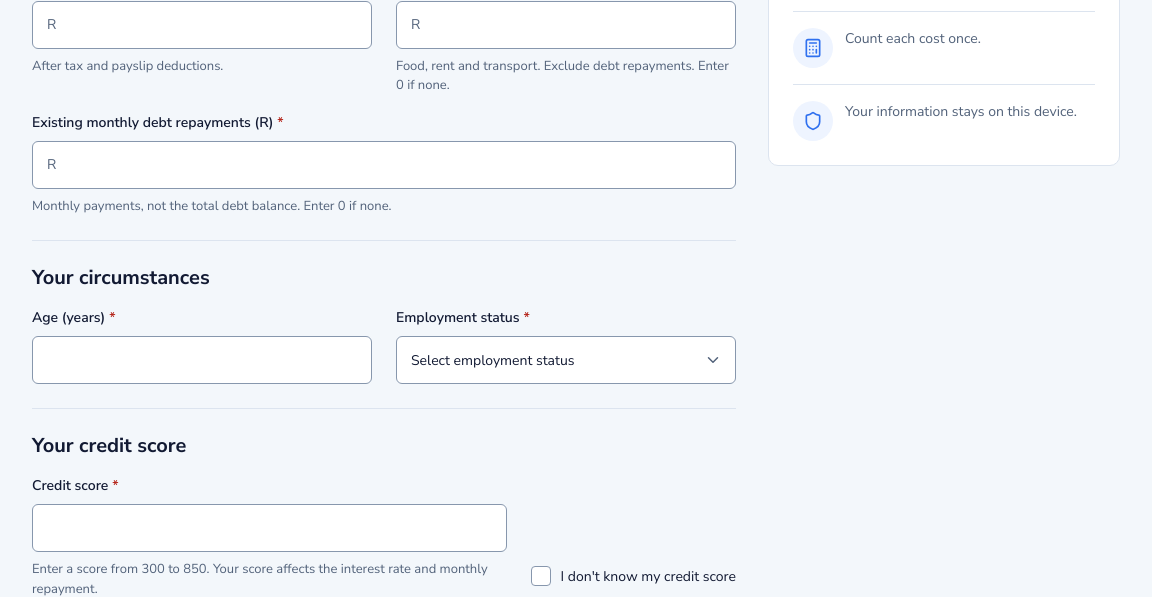
YourBudgetScreen › shows employment duration for employed and income source for unemployed
(page scrolled)
Select "Employed" in the dropdown labelled "Employment status *" at (566, 360), box [396,336,736,384]
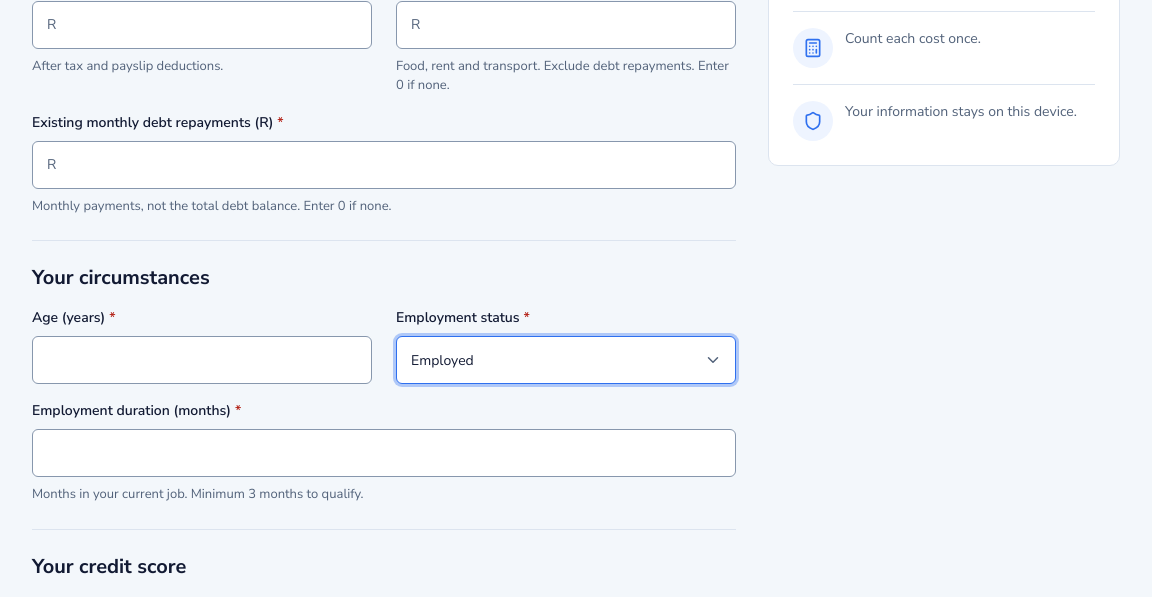
Expected: the field labelled "Employment duration (months) *" is shown, [32,429,736,477]
Select "Unemployed" in the dropdown labelled "Employment status *" at (566, 360), box [396,336,736,384]
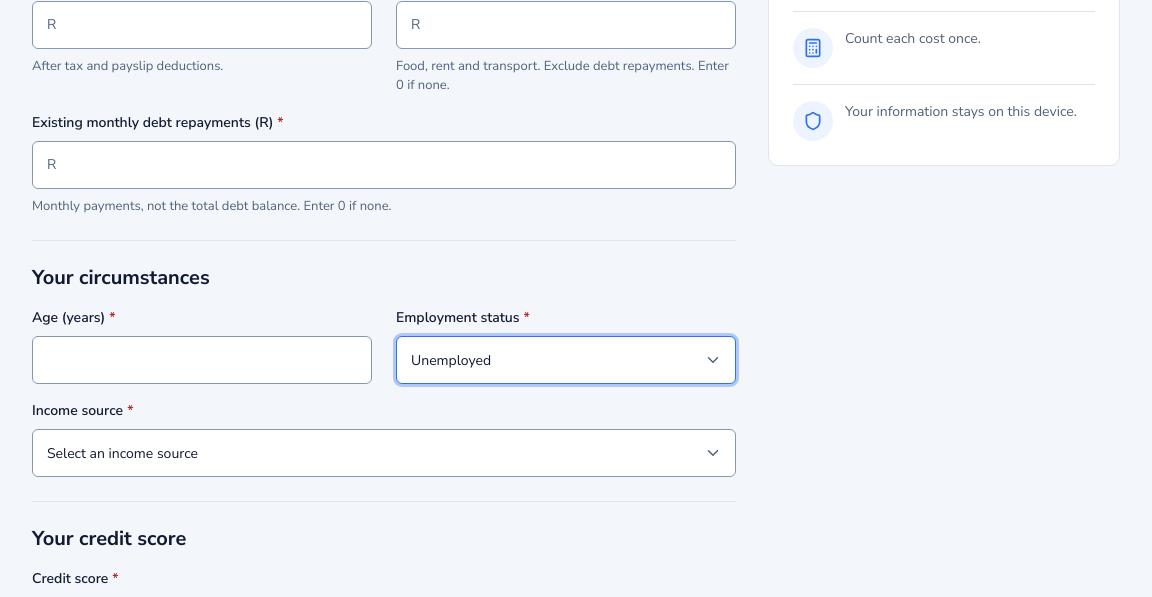
Expected: the label "Employment duration" is gone
Expected: the dropdown labelled "Income source *" is shown, [32,429,736,477]
